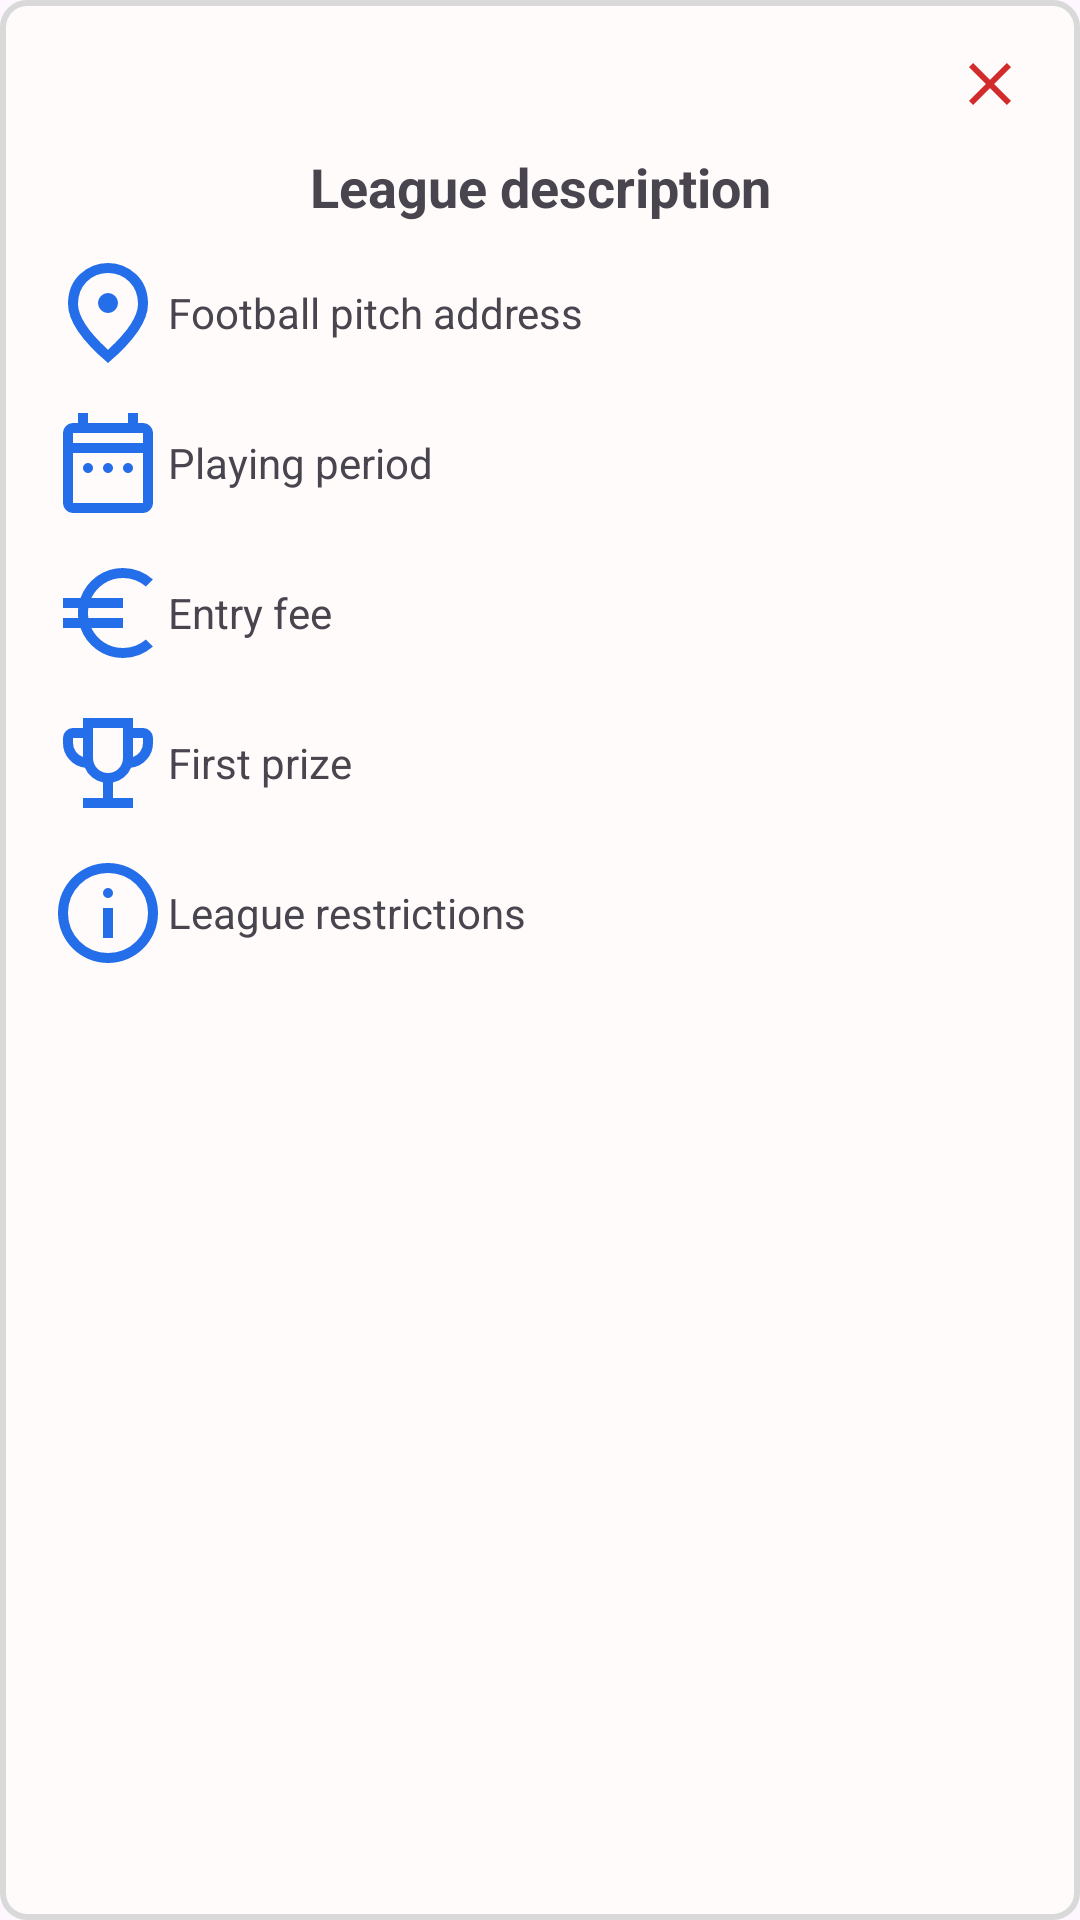

Icons on this 1080 × 1920 Android screen, each with the point to tap as (x=x, y=y):
close: (x=990, y=84)
date range: (x=108, y=463)
euro: (x=108, y=613)
info: (x=108, y=913)
map: (x=108, y=313)
trophy: (x=108, y=763)
